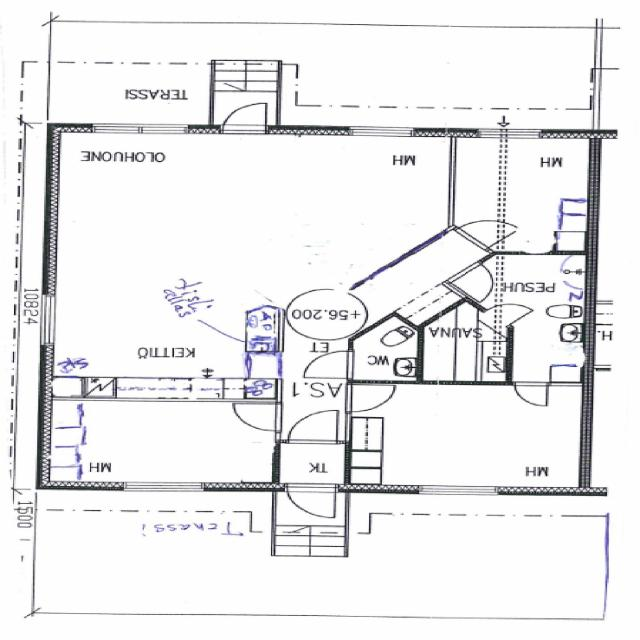door: (456, 210, 518, 249), (446, 262, 506, 300), (286, 484, 336, 522), (288, 410, 336, 443), (483, 296, 533, 326), (222, 99, 264, 134), (233, 404, 281, 431), (307, 352, 351, 378), (348, 386, 391, 411), (516, 383, 546, 404)
